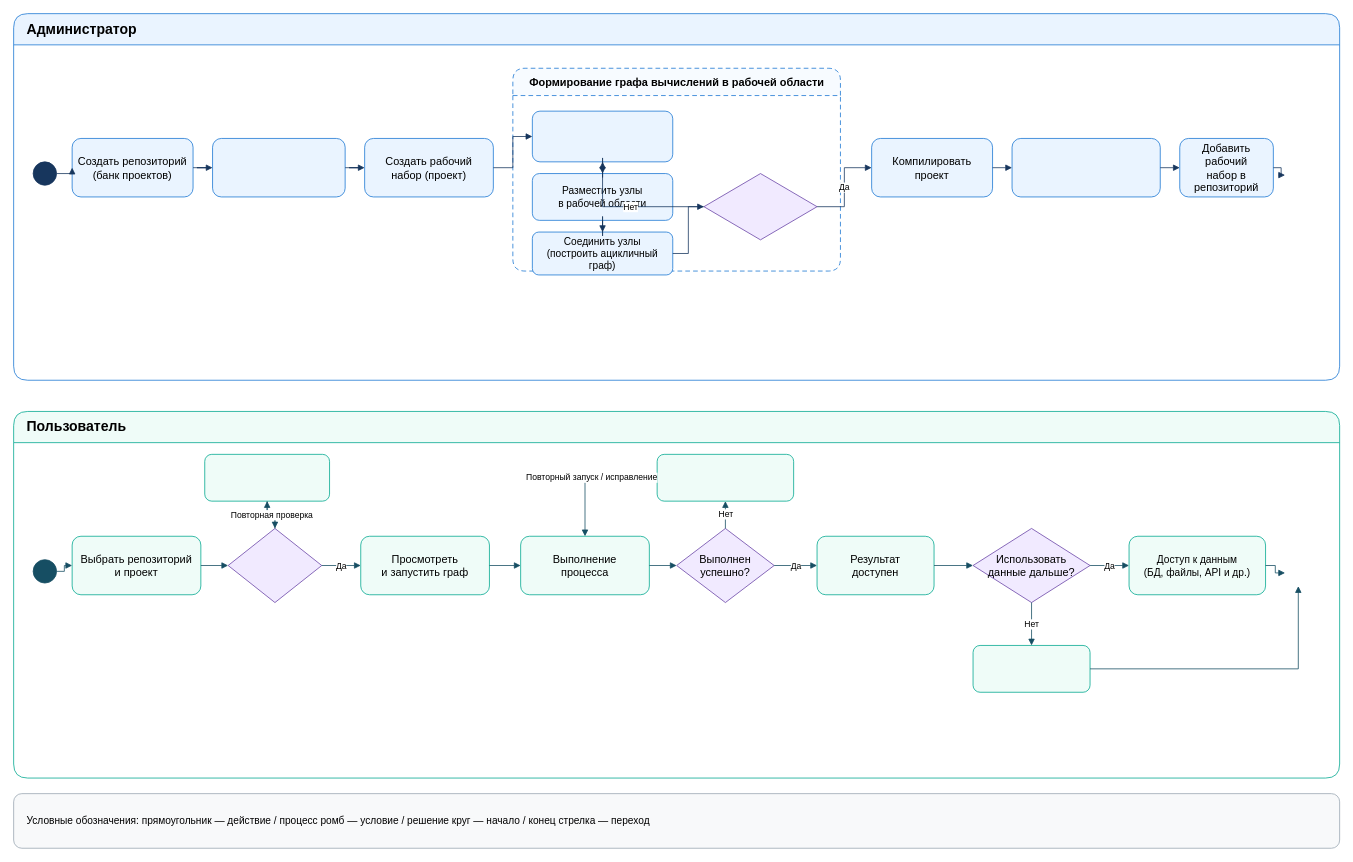
Image size: 1353x862. Some labels were removed from this diagram. The centre of each missing label's shape, as x and y in pixels:
Выбрать версию графа как основу для пользователей: point 1085,167
Выбрать трансформеры, читатели и приёмники из каталога: point 602,136
Выйти из проекта: point 1031,668
Граф корректен и ацикличен?: point 760,206
Доступ есть?: point 274,565
Запросить доступ у администратора: point 267,477
Настроить права доступа к репозиторию: point 278,167
Просмотр логов и диагностика: point 725,477
